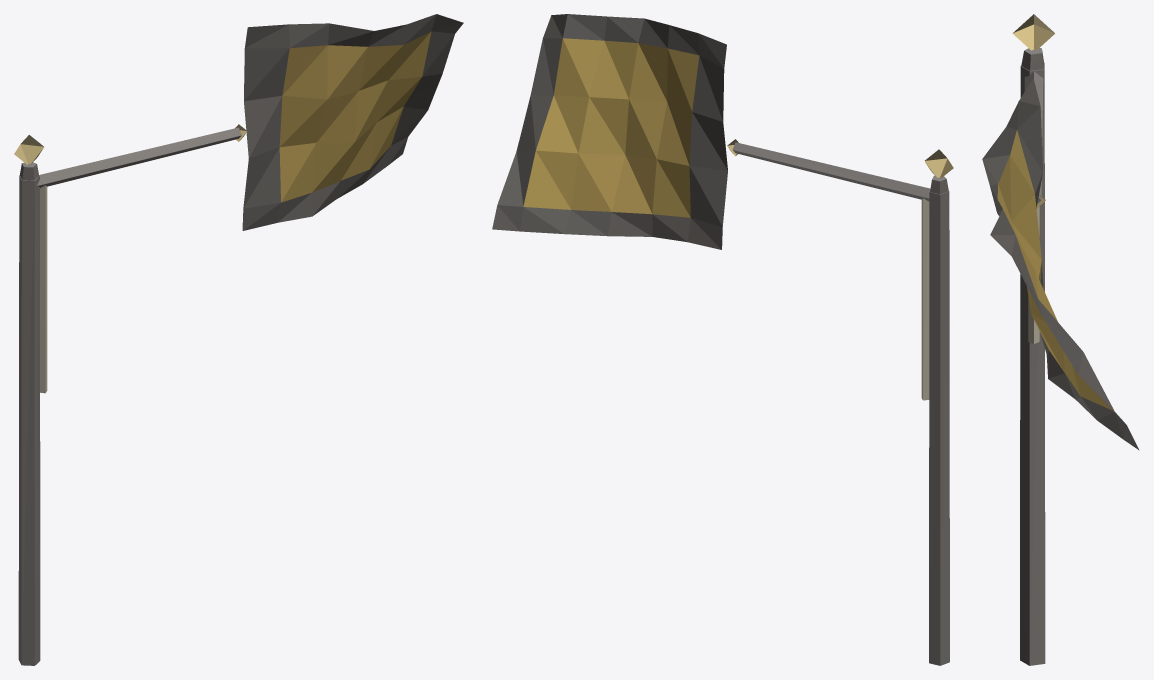
The model's file is flag.square.huangqi__pole.stick.fangun__armFly.glb.
3 views of the same model, side by side, from view 1: azimuth 30°, elevation 25°; view 2: azimuth 150°, elevation 25°; view 3: azimuth 270°, elevation 25° (orthographic). The views are drawn at different scales.
Parts seen in each view (by area): view 1: flag.square.huangqi; view 2: flag.square.huangqi; view 3: flag.square.huangqi.
Boxes of the visible parts, x1,y1,x2,y2 form: flag.square.huangqi: (14,14,463,665); flag.square.huangqi: (492,14,953,665); flag.square.huangqi: (982,14,1139,665).
Size of the model in its own units: 1.96 by 2.52 by 0.5043.
